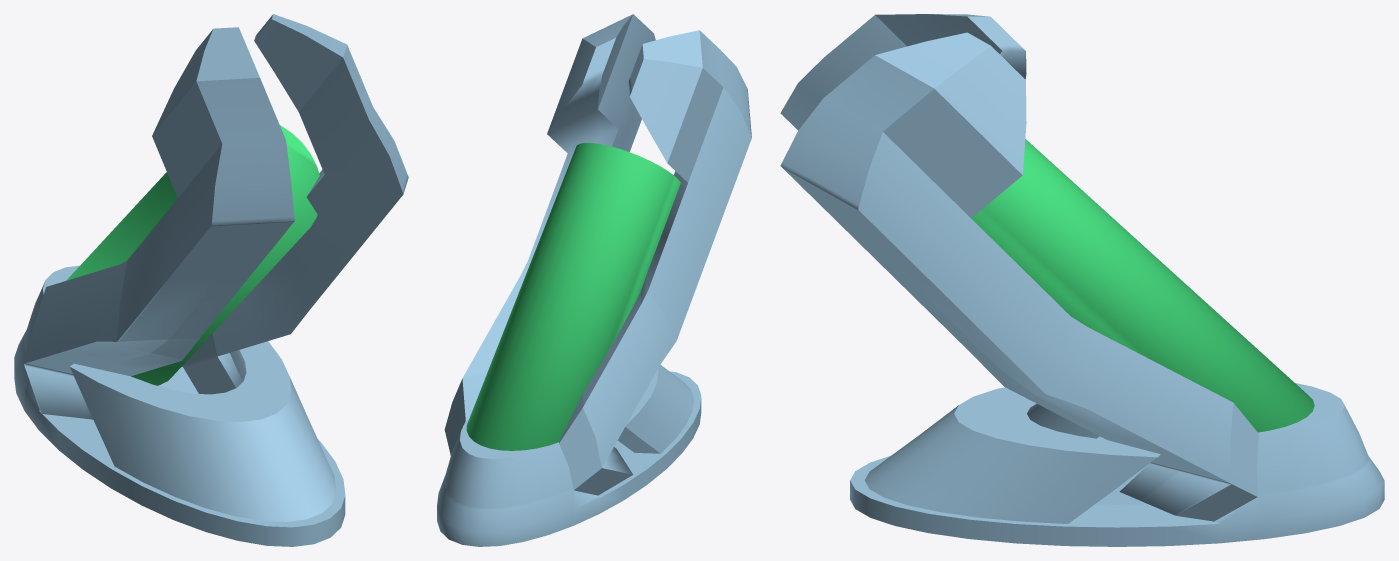
Rendered from sleeping pod.fbx.
3 views of the same model, side by side, from view 1: azimuth 30°, elevation 25°; view 2: azimuth 150°, elevation 25°; view 3: azimuth 270°, elevation 25° (orthographic). The views are drawn at different scales.
Visible parts, largest first — view 1: Sleep Pod; view 2: Sleep Pod; view 3: Sleep Pod.
Part boxes in pixels (x1,y1,x2,y2): Sleep Pod: (14,14,408,546); Sleep Pod: (437,14,751,546); Sleep Pod: (780,14,1384,546).
Bounding box in the file's own units: 469 × 977 × 1126.
